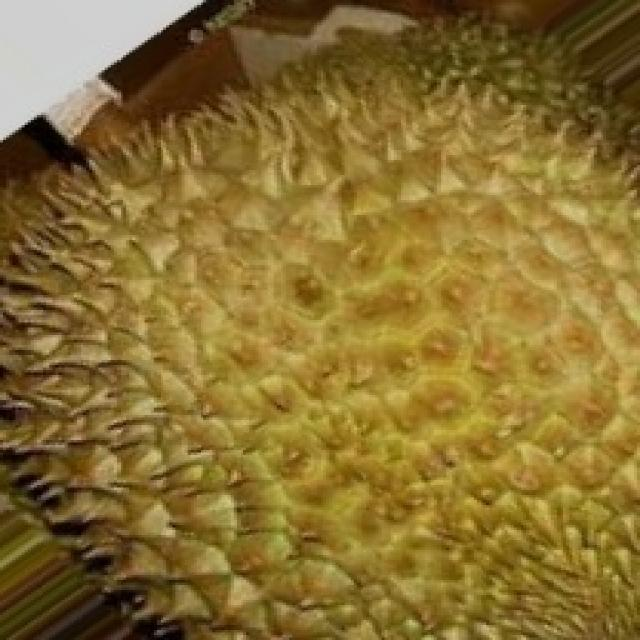fruit: (0, 255, 351, 635), (403, 515, 640, 640)
